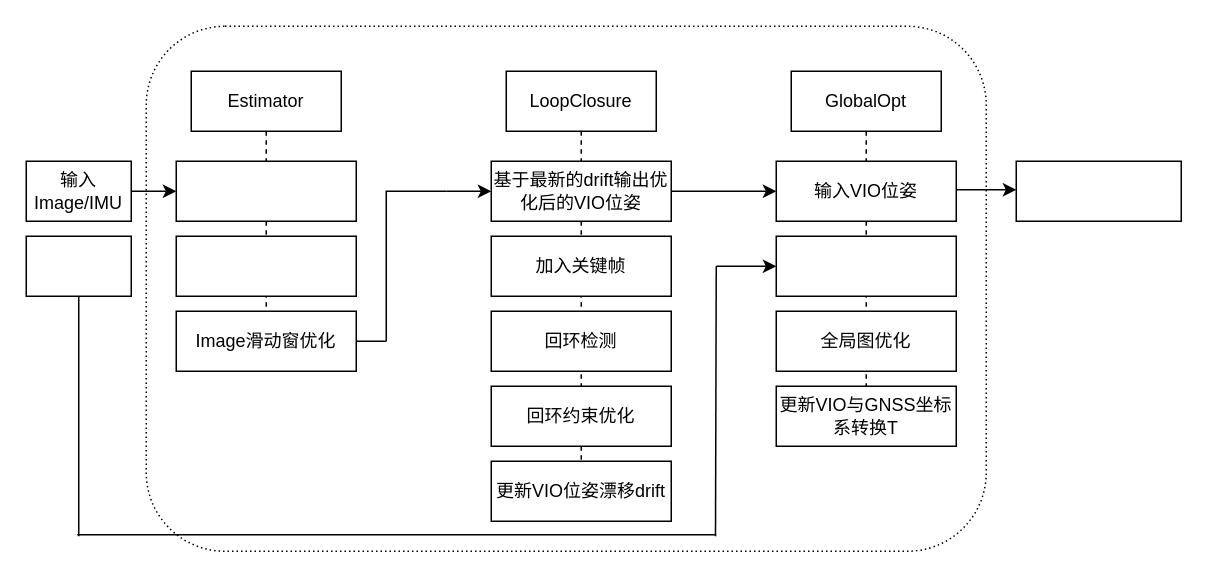
Some shapes in this 1208 by 578 pixel diagram are drawn without their labels. Here are the shapes that lost their labels. From the top down, the centre of each, then its label:
At pixel 265 190: "特征点提取与跟踪".
At pixel 1098 190: "基于最新T，输出全局坐标系下的位姿".
At pixel 78 265: "输入GNSS".
At pixel 265 265: "IMU预积分".
At pixel 415 265: "输出关键帧以及VIO位姿".
At pixel 865 265: "时间戳匹配GNSS位姿".
